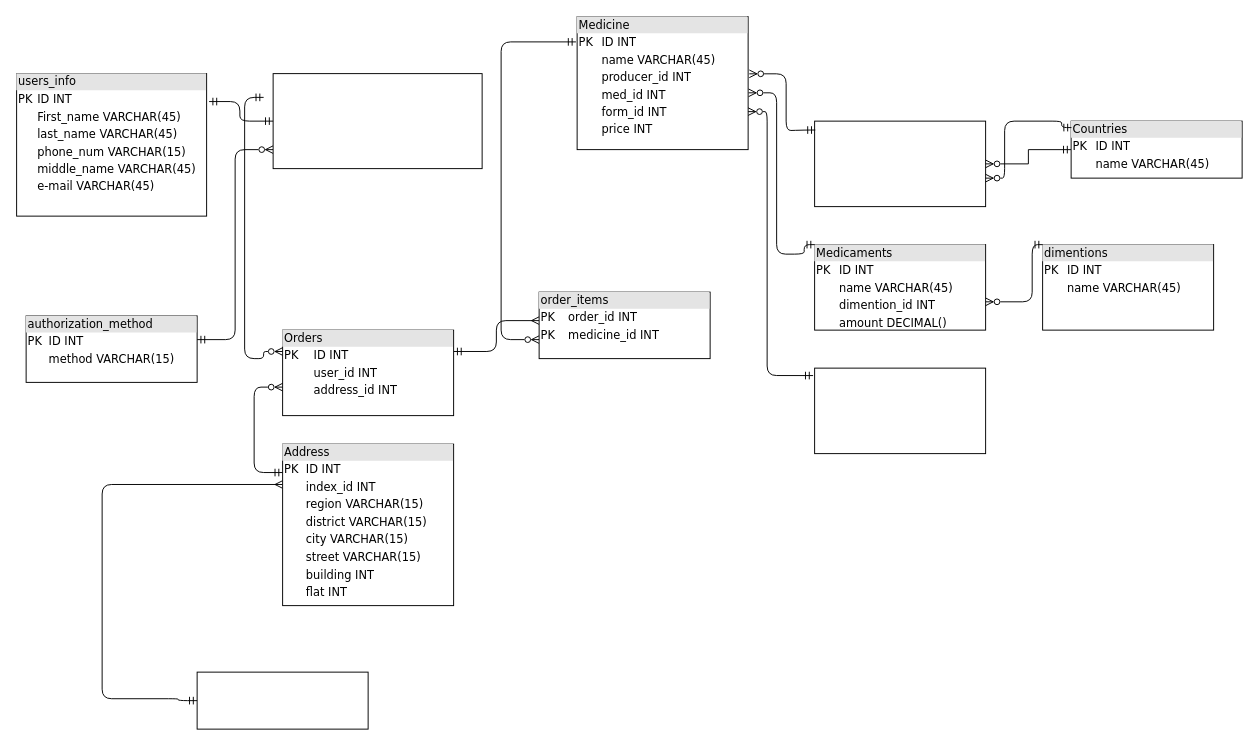
Some shapes in this 1259 by 746 pixel diagram are drawn without their labels. The centre of each missing label's shape, as x and y in pixels:
"FOrms PK ID INT name VARCHAR(45)" belongs at point 900,410.
"indexes PK ID INT index CHAR(6)" belongs at point 282,700.
"Producers PK ID INT name VARCHAR(45) country_id INT" belongs at point 900,163.
"Users PK ID INT info_id INT password VARCHAR(45) authorization method TINYINT" belongs at point 377,121.
